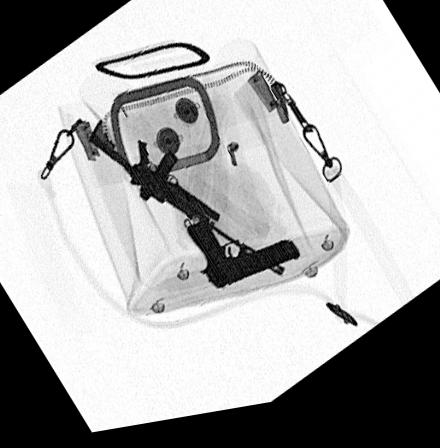Gun: (87, 122, 285, 286), (186, 227, 301, 297)
